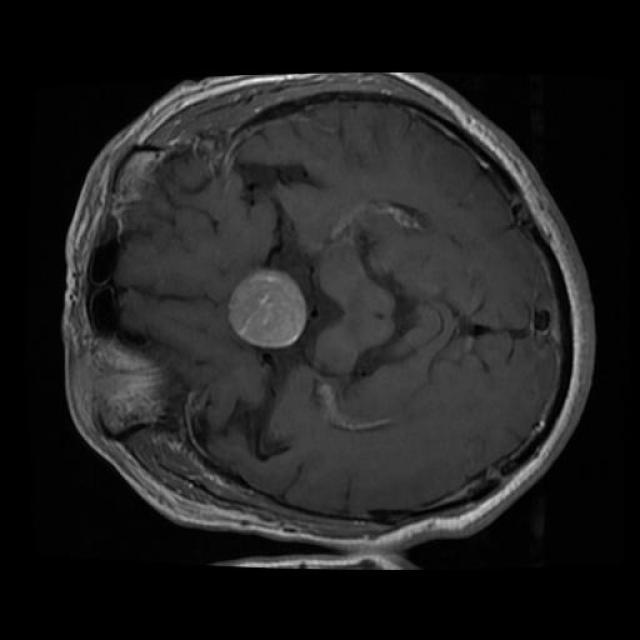Pituitary: (227, 269, 308, 349)
